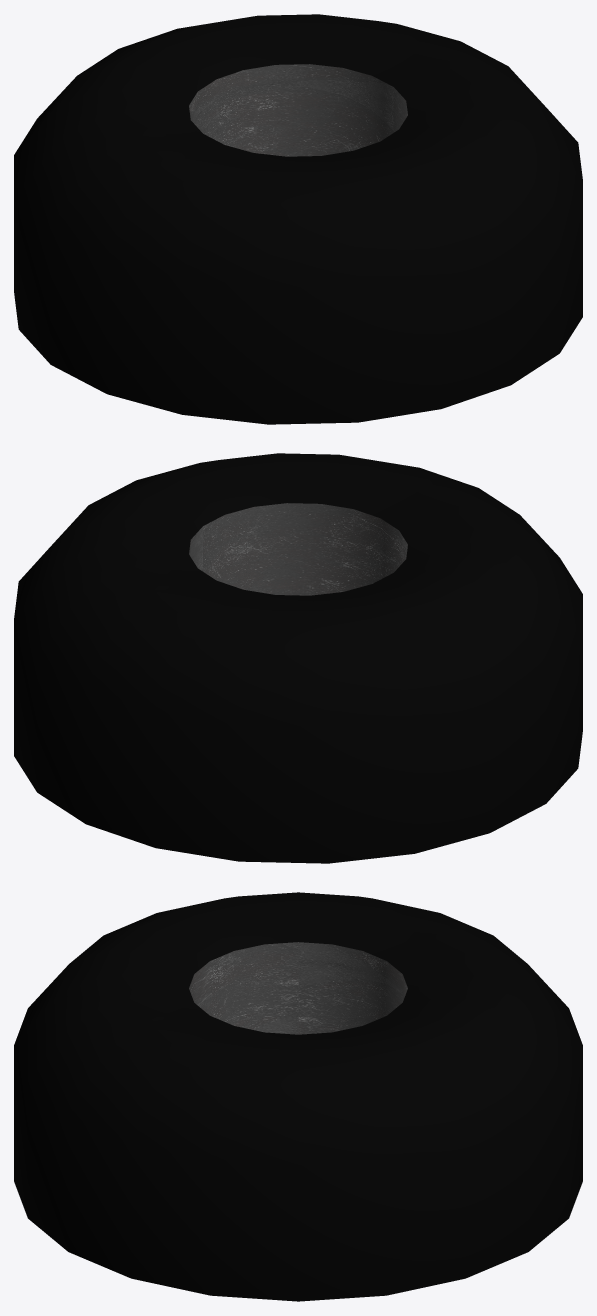
File: F_RangeSelect_Button_01 (1).fbx
3 views of the same model, one above another, from view 1: azimuth 30°, elevation 25°; view 2: azimuth 150°, elevation 25°; view 3: azimuth 270°, elevation 25° (orthographic).
Visible parts, largest first — view 1: F_RangeSelect_Button_01; view 2: F_RangeSelect_Button_01; view 3: F_RangeSelect_Button_01.
Part boxes in pixels (x1,y1,x2,y2): F_RangeSelect_Button_01: [14, 14, 582, 424]; F_RangeSelect_Button_01: [14, 453, 582, 863]; F_RangeSelect_Button_01: [14, 892, 582, 1301].
Bounding box in the file's own units: 7.04 × 2.82 × 7.04.
